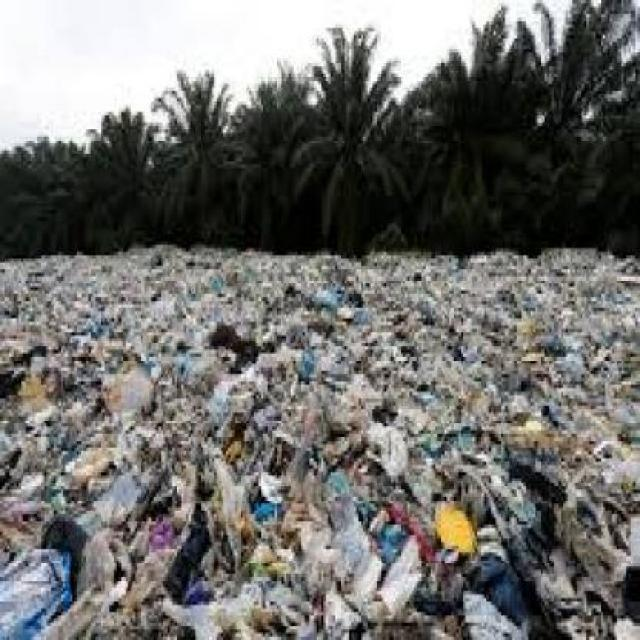garbage: (0, 259, 631, 616)
